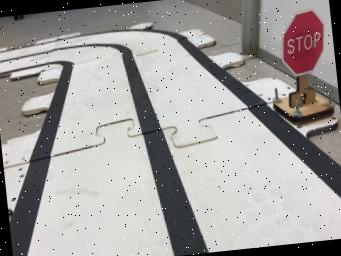stop: (273, 9, 334, 124), (273, 9, 334, 124), (273, 9, 334, 124), (273, 9, 334, 124), (273, 9, 334, 124), (273, 9, 334, 124)
street: (0, 27, 341, 256), (0, 27, 341, 256), (0, 27, 341, 256), (0, 27, 341, 256), (0, 27, 341, 256), (0, 27, 341, 256)
